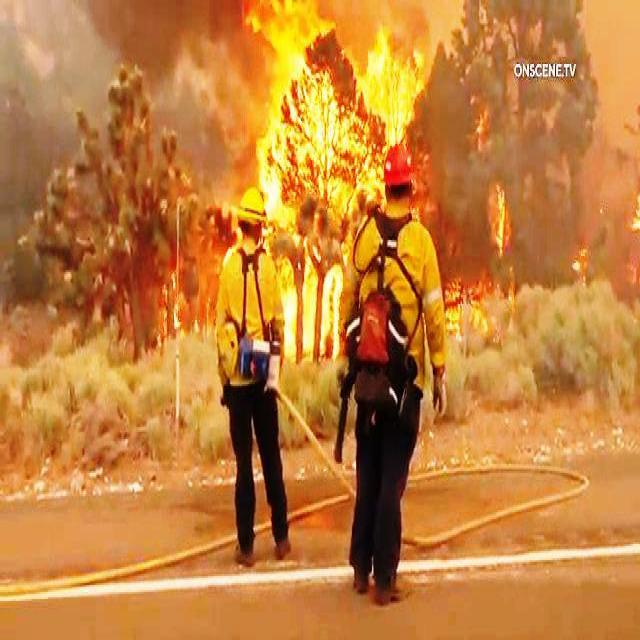Fire: (4, 0, 235, 197), (252, 1, 390, 202)
